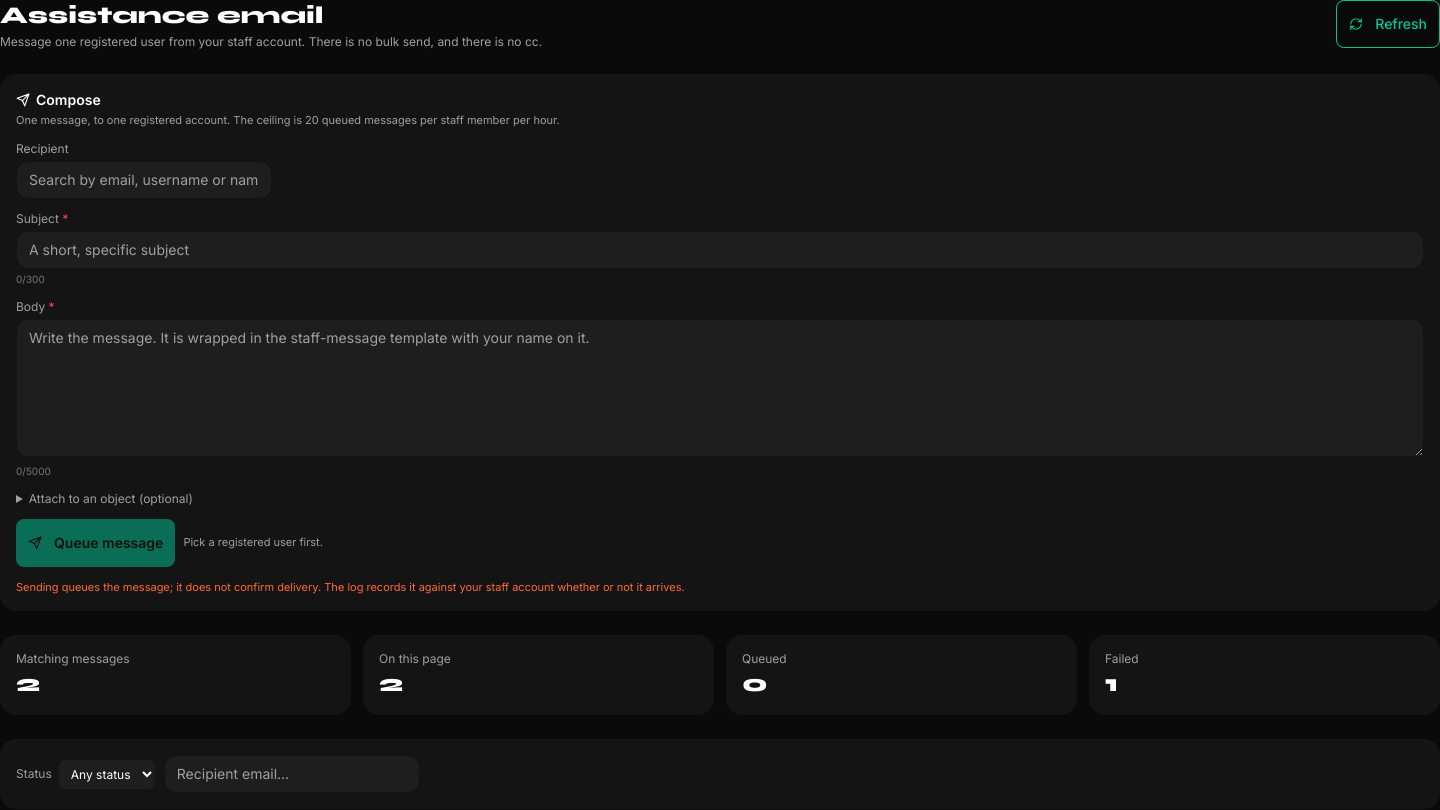
Test case: AdminEmail — send › surfaces the 429 ceiling sentence, including the number the server quoted
Expected: the field named "Email subject" is shown, [16, 230, 1424, 268]
Type "ada" into the field named "Search for the recipient". click: (144, 180)
box: [16, 160, 272, 198]
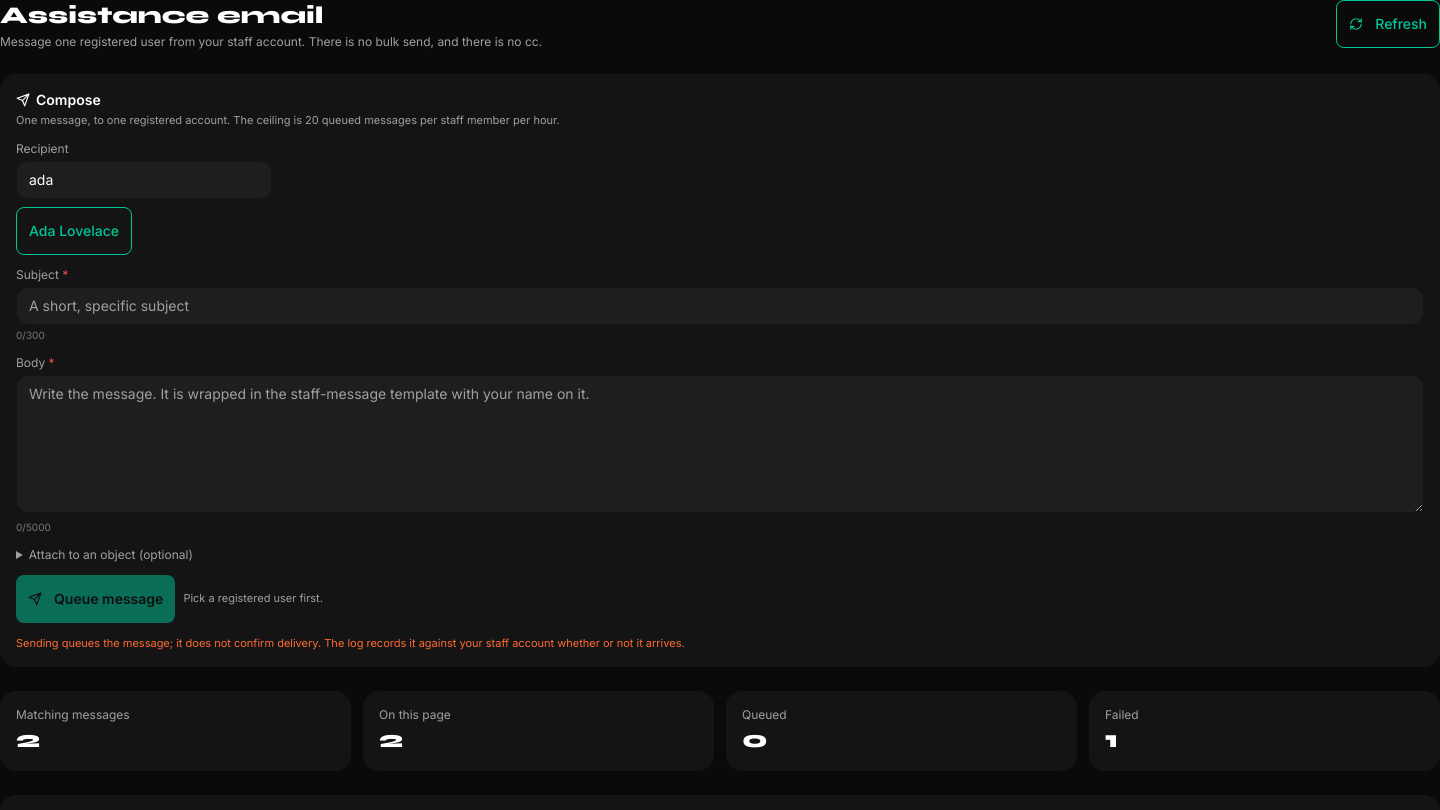
Click the button "Ada Lovelace". click: (74, 230)
box: [16, 206, 132, 254]
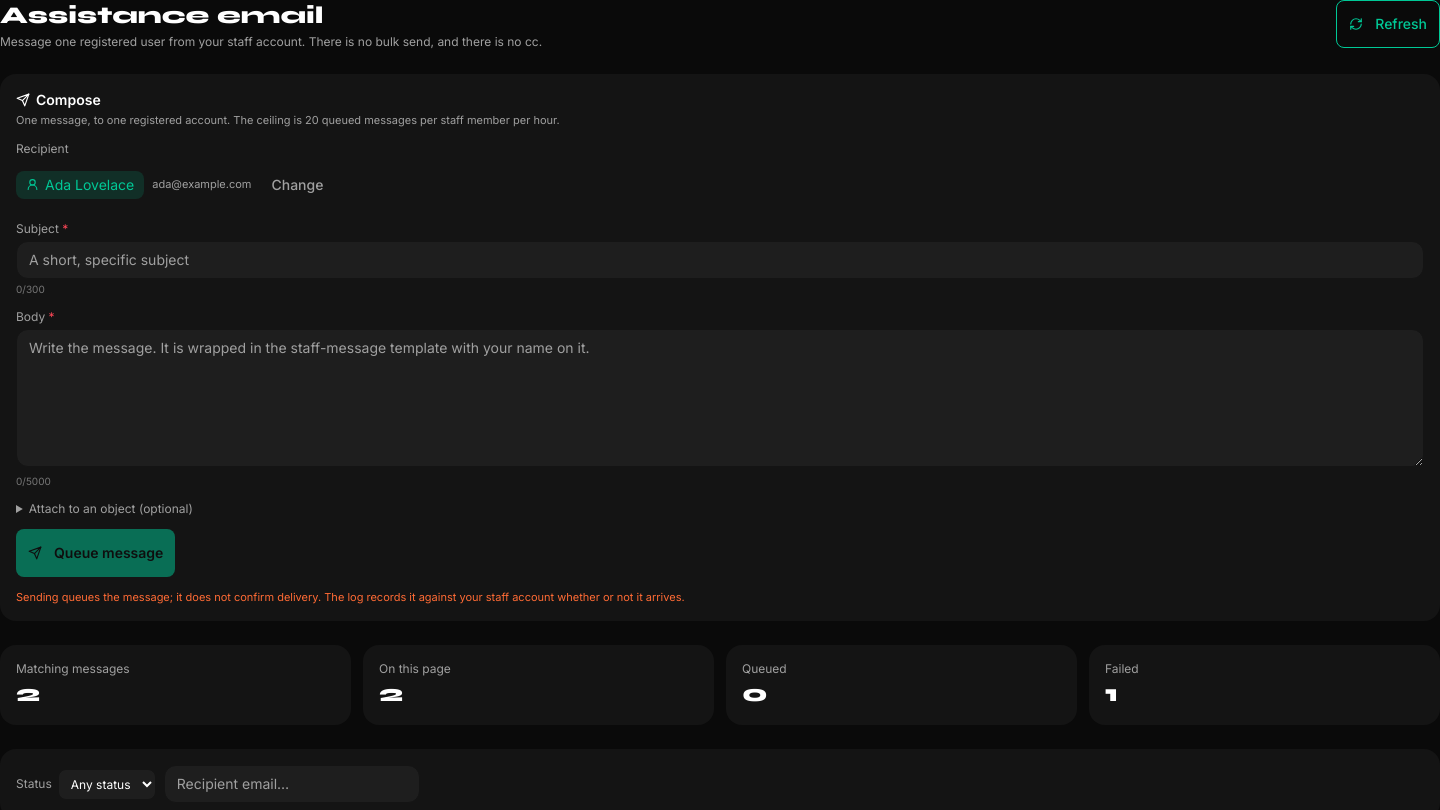
Type "Your order has shipped" into the field named "Email subject". click: (720, 260)
box: [16, 240, 1424, 278]
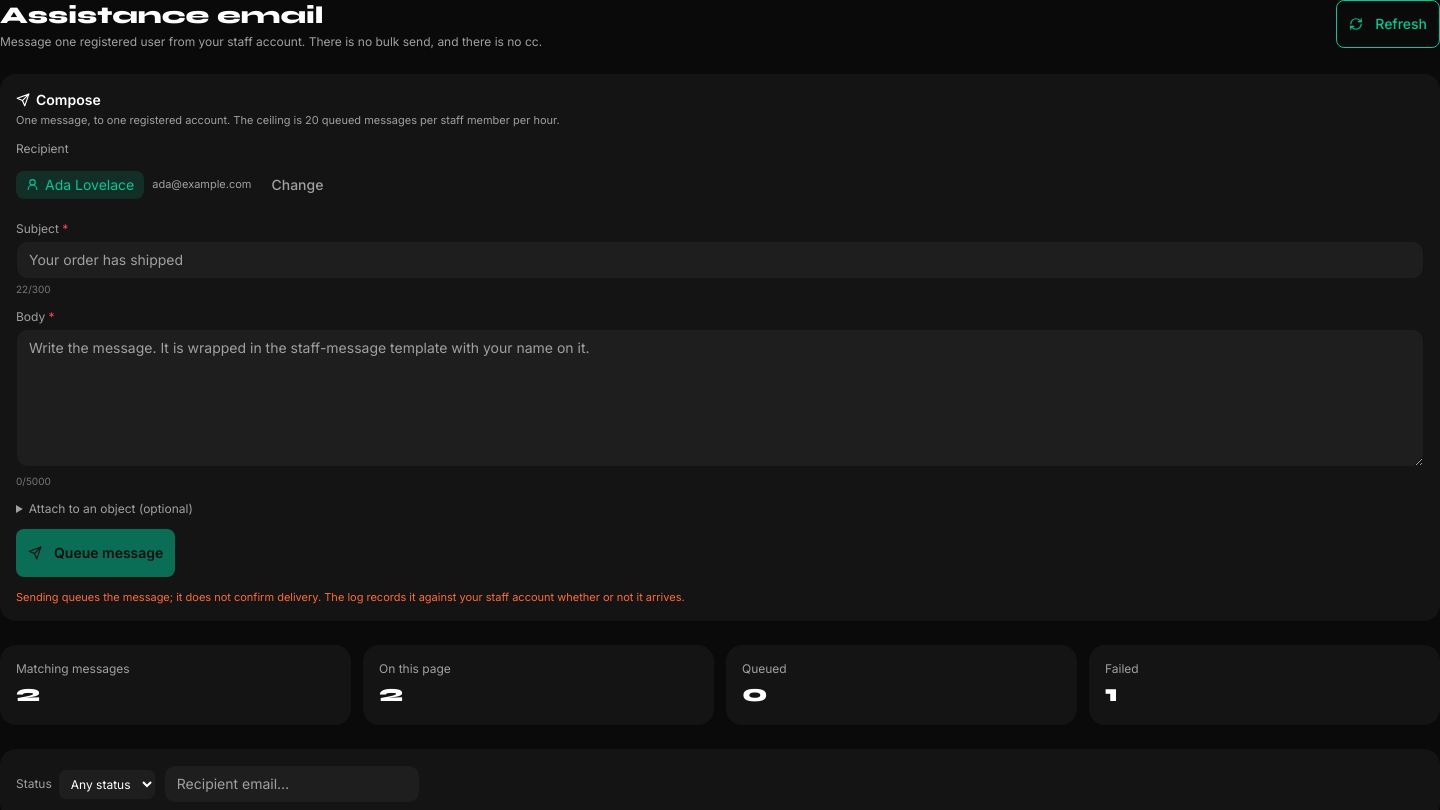
Replace the text in the text box named "Email body" with "It left the warehouse.". click: (720, 398)
box: [16, 328, 1424, 466]
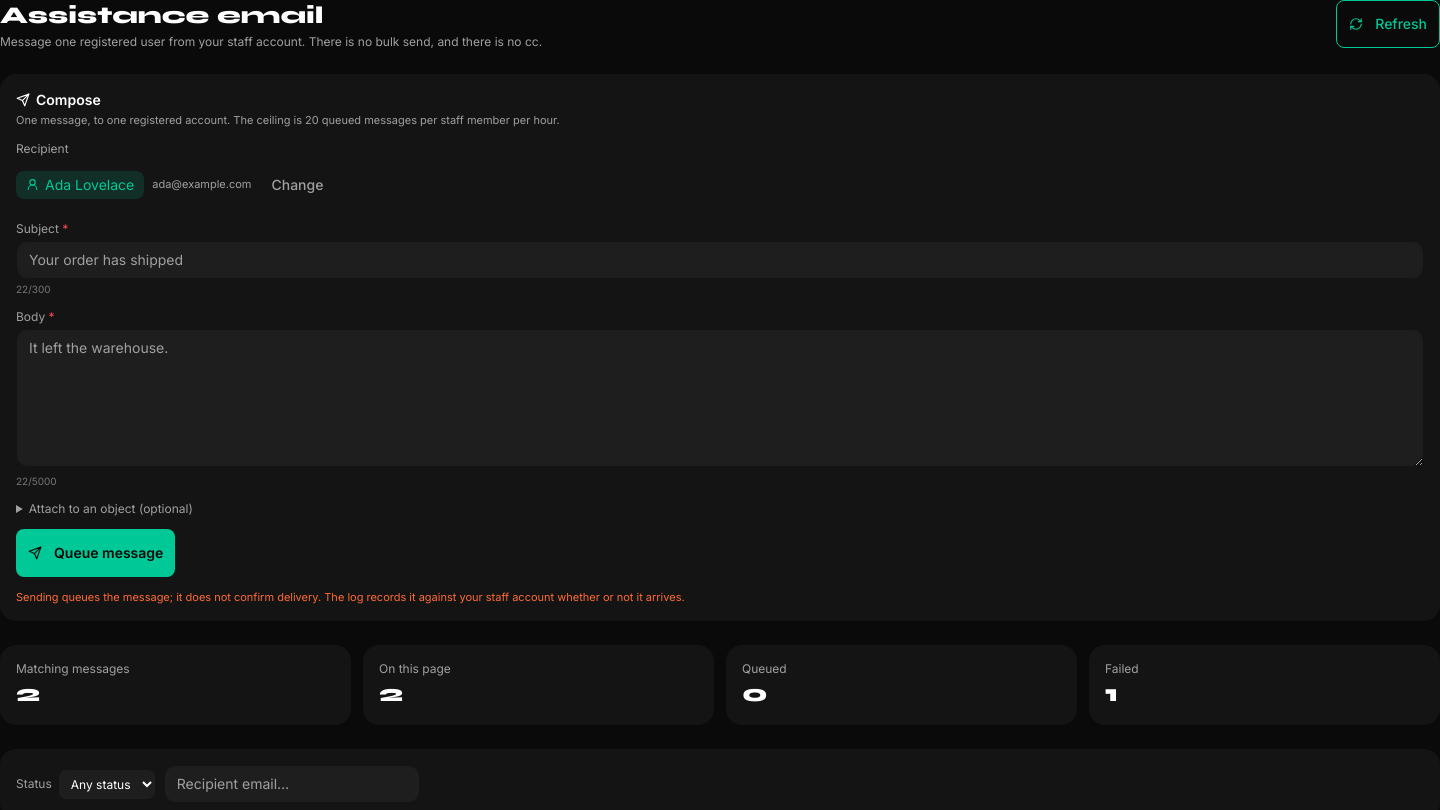
Click the button "Queue message". click: (96, 552)
box: [16, 528, 175, 576]
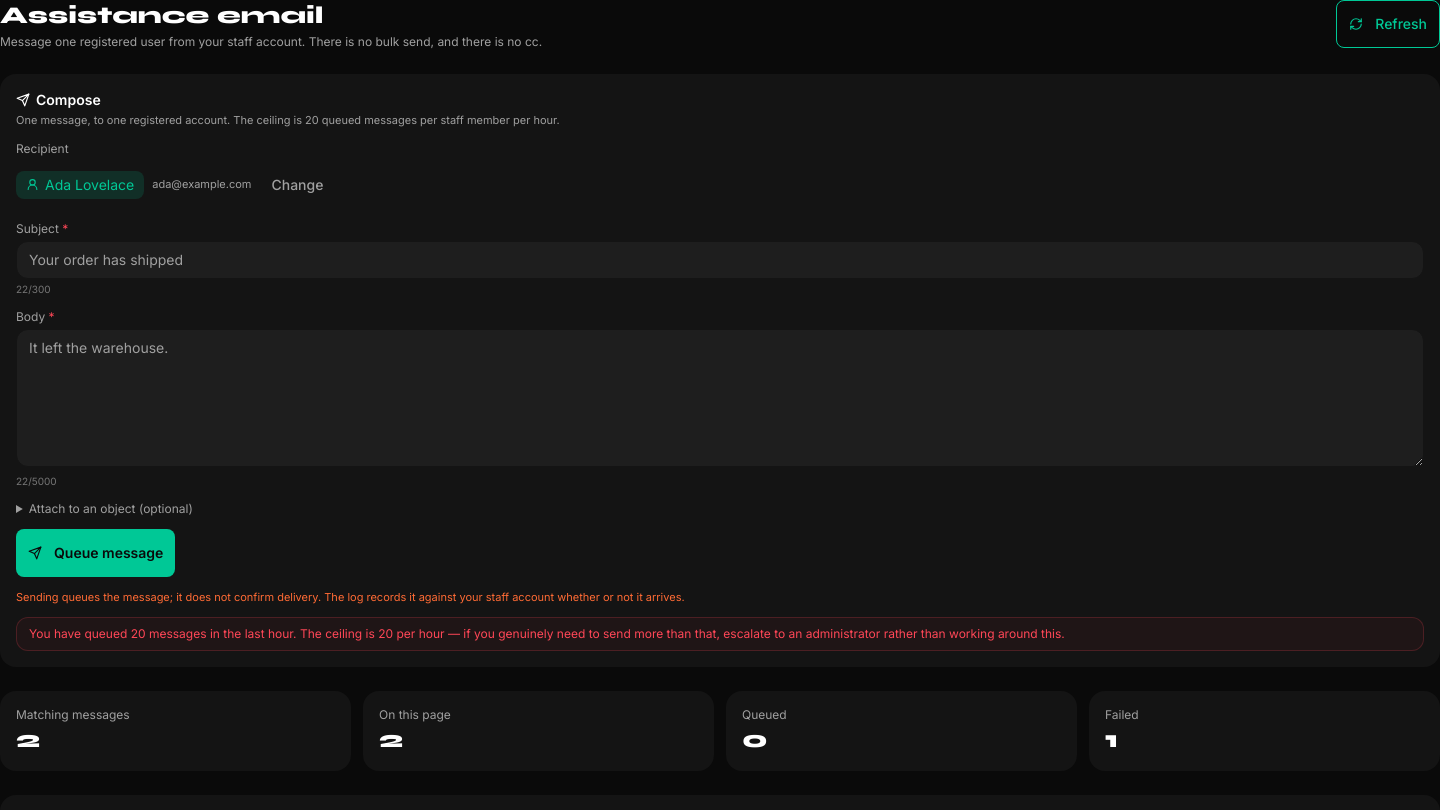
Now the text "You have queued 20 messages in the last hour" shows "The ceiling is 20 per hour", box [29, 626, 1065, 641]
